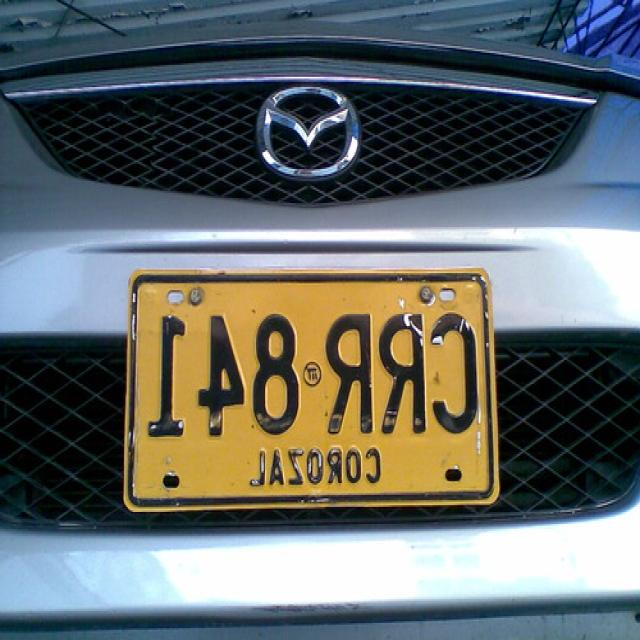placas: (136, 279, 484, 444)
